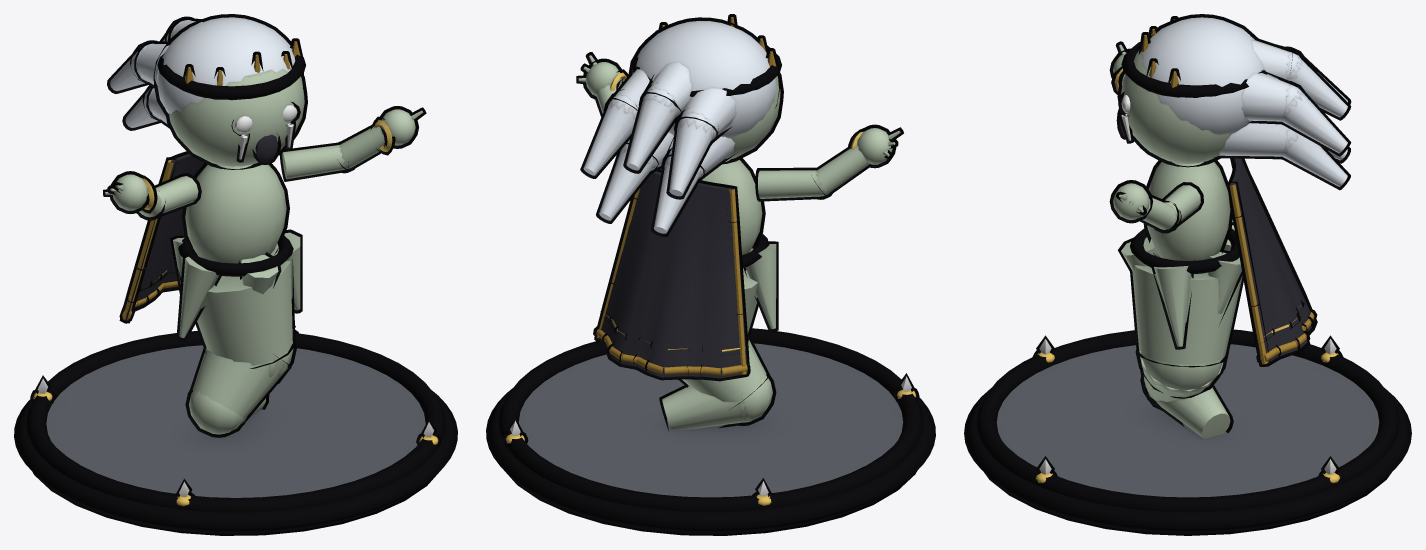
File: banshee_s4.fbx
3 renders of one model, left to right at view 1: azimuth 30°, elevation 25°; view 2: azimuth 150°, elevation 25°; view 3: azimuth 270°, elevation 25°, orthographic.
Visible parts, largest first — view 1: banshee_s4; view 2: banshee_s4; view 3: banshee_s4.
Boxes of the visible parts, x1,y1,x2,y2 form: banshee_s4: (14, 14, 457, 535); banshee_s4: (486, 14, 935, 535); banshee_s4: (964, 14, 1411, 535).
Bounding box in the file's own units: 1.58 × 1.65 × 1.58.
2 materials, 1 textured.
